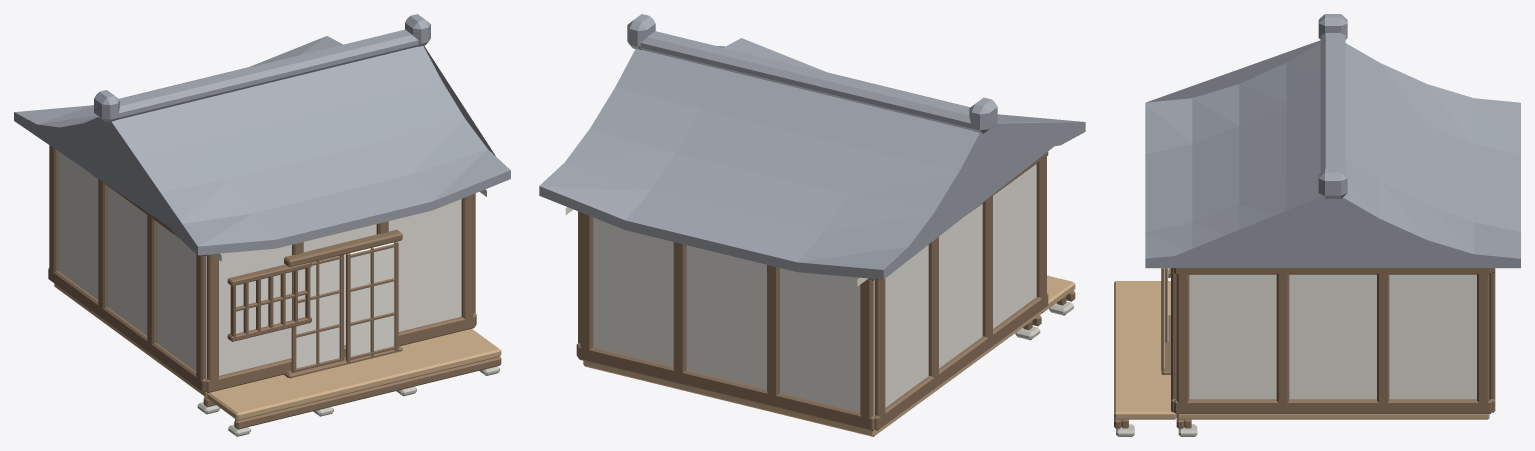
File: merchant-house.glb
The picture shows the model from 3 angles, left to right: view 1: azimuth 30°, elevation 25°; view 2: azimuth 150°, elevation 25°; view 3: azimuth 270°, elevation 25°; orthographic projection. The views are drawn at different scales.
Visible parts, largest first — view 1: merchant-house; view 2: merchant-house; view 3: merchant-house.
Boxes of the visible parts, <box> form: merchant-house: <box>14,14,510,436</box>; merchant-house: <box>539,14,1085,436</box>; merchant-house: <box>1114,14,1520,436</box>.
Bounding box in the file's own units: 6.2 × 4.91 × 6.5.
